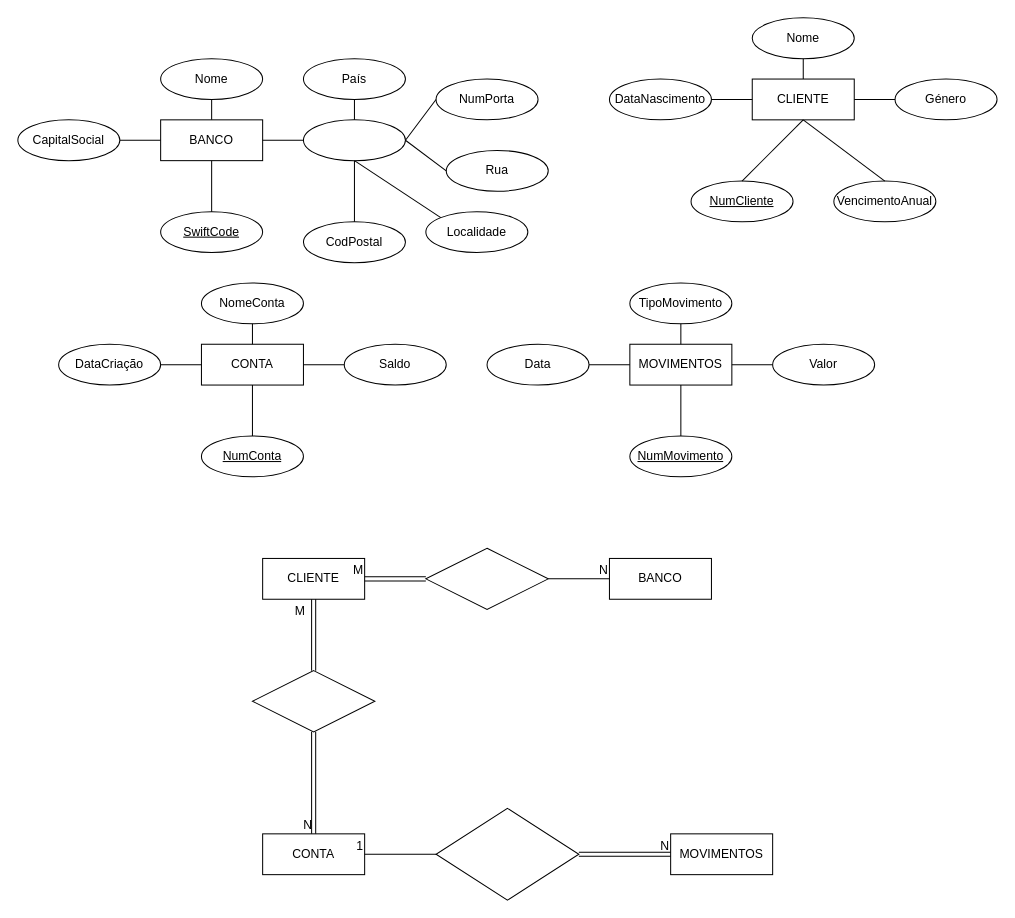
The diagram is 1015 pixels wide and 918 high, and some of its shapes have lost their labels. Here are the shapes that lost their labels. From the top down, the centre of each, then its label:
point 353,140: Morada
point 486,578: PERTENCE_A
point 313,701: CONTA_DE
point 507,853: MOVIMENTOS_DE
